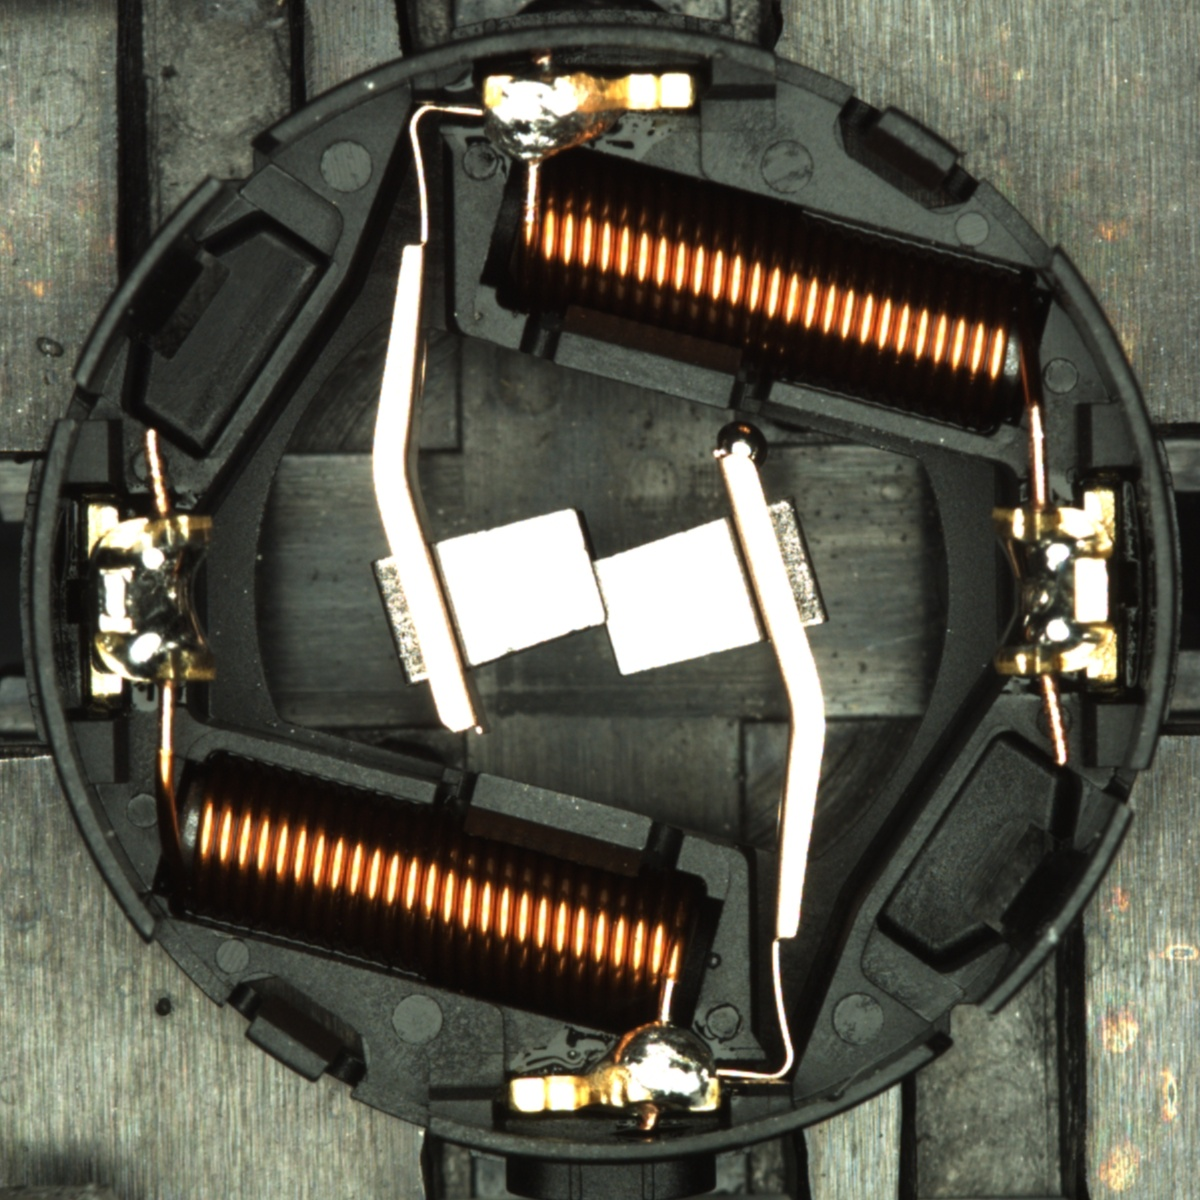1: (252, 30, 481, 254), (710, 928, 939, 1152)
2: (710, 30, 939, 254), (252, 928, 481, 1152)
3: (22, 254, 252, 479), (939, 703, 1169, 928)
4: (252, 254, 481, 479), (710, 703, 939, 928)
5: (481, 142, 710, 367), (481, 815, 710, 1040)
6: (252, 703, 481, 928)
7: (939, 254, 1169, 479), (22, 703, 252, 928)
cacbon: (390, 497, 801, 685)
chau_dien: (80, 498, 219, 698), (986, 488, 1125, 687)
hat_chi: (715, 420, 769, 471)
tay_choi: (481, 69, 699, 168), (509, 1017, 722, 1116)
thanh_de: (954, 787, 1141, 1031), (58, 163, 244, 405)
